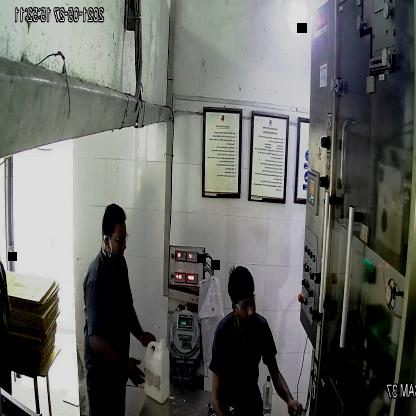goggles: (232, 290, 258, 313), (103, 232, 130, 249)
